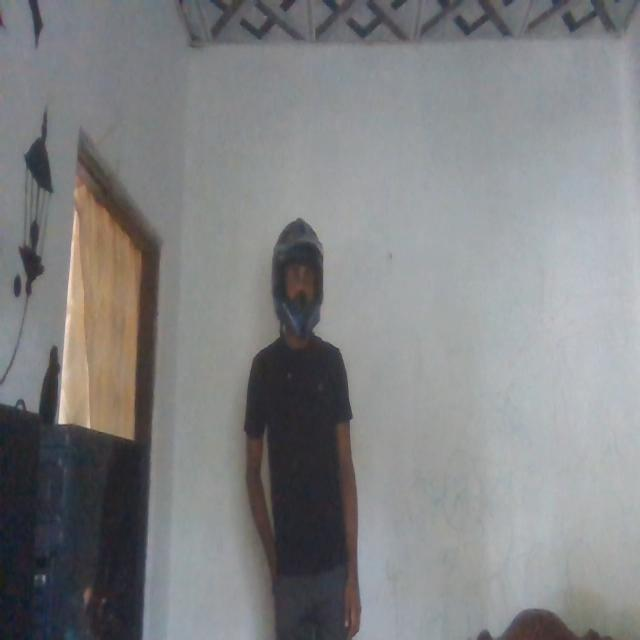Helmet_Wearer: (266, 212, 326, 356)
Person: (242, 207, 366, 640)
